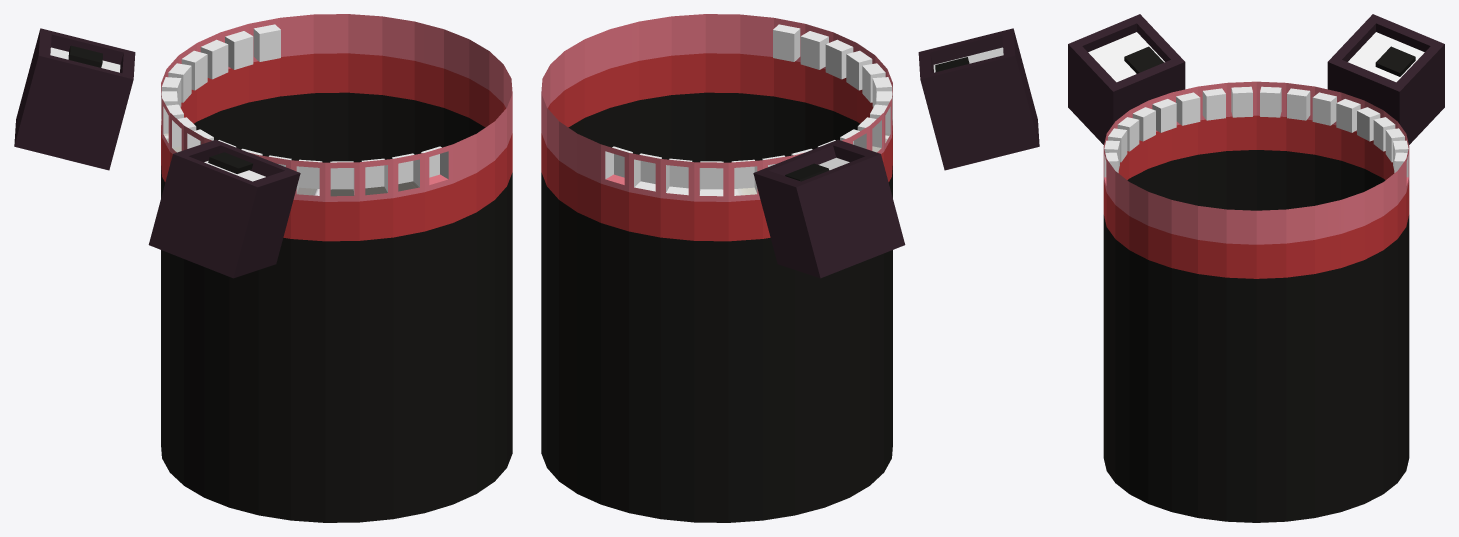
The model's file is HoleMonster.fbx.
The picture shows the model from 3 angles, left to right: view 1: azimuth 30°, elevation 25°; view 2: azimuth 150°, elevation 25°; view 3: azimuth 270°, elevation 25°; orthographic projection. The views are drawn at different scales.
Parts seen in each view (by area): view 1: Cylinder, Eyes, Eyes.001; view 2: Cylinder, Eyes, Eyes.001; view 3: Cylinder, Eyes, Eyes.001.
Part boxes in pixels (box(x1,y1,x2,y2)): Cylinder: box(161, 14, 512, 522); Eyes: box(14, 28, 300, 278); Eyes.001: box(68, 45, 252, 173); Cylinder: box(541, 14, 892, 522); Eyes: box(753, 28, 1039, 278); Eyes.001: box(785, 57, 969, 181); Cylinder: box(1103, 81, 1409, 522); Eyes: box(1068, 14, 1444, 144); Eyes.001: box(1124, 46, 1415, 76).
Size of the model in its own units: 267 by 251 by 247.
1 material, 1 textured.
